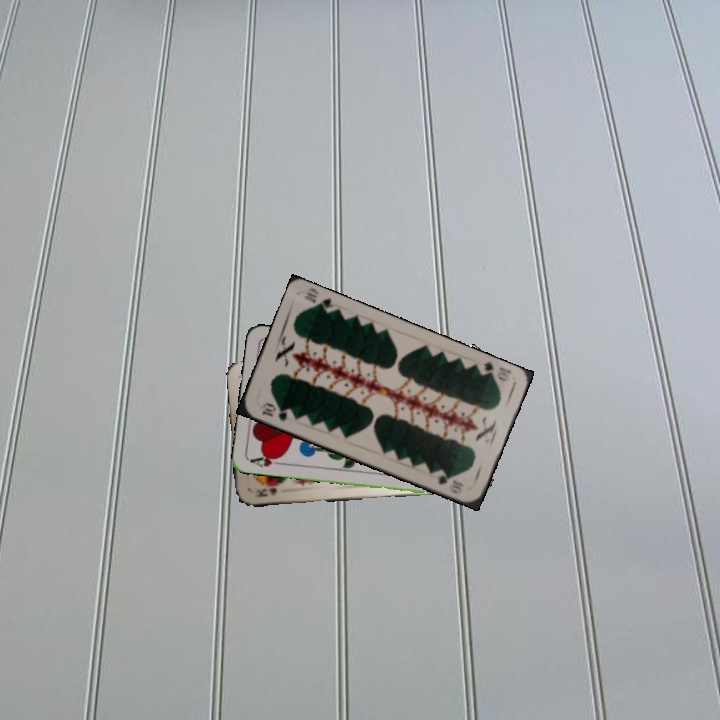G10: (474, 358, 514, 384), (258, 398, 290, 424)
HA: (246, 450, 287, 470)
SK: (252, 483, 279, 500)
